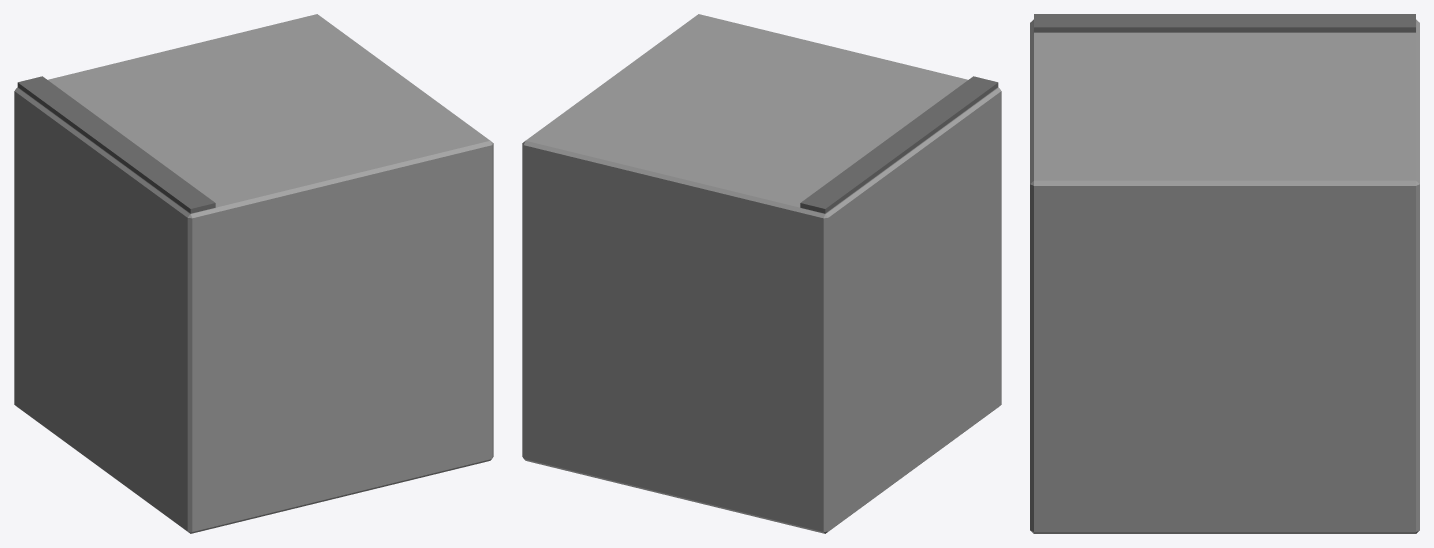
File: 12 Concrete Side.fbx
3 renders of one model, left to right at view 1: azimuth 30°, elevation 25°; view 2: azimuth 150°, elevation 25°; view 3: azimuth 270°, elevation 25°, orthographic. The views are drawn at different scales.
Visible parts, largest first — view 1: 12 Concrete Side; view 2: 12 Concrete Side; view 3: 12 Concrete Side.
Part boxes in pixels (box(x1,y1,x2,y2)): 12 Concrete Side: box(14, 14, 493, 533); 12 Concrete Side: box(522, 14, 1001, 533); 12 Concrete Side: box(1030, 14, 1419, 533).
Bounding box in the file's own units: 100 × 102 × 100.
1 material, 1 textured.
